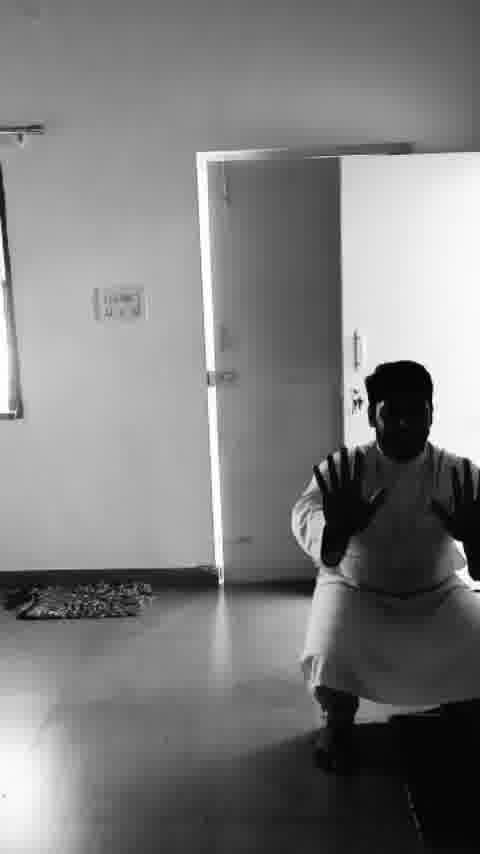duck: (285, 358, 480, 782)
